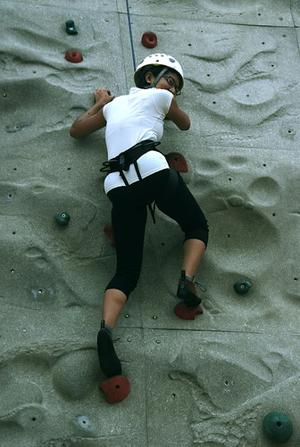person: (71, 54, 210, 377)
